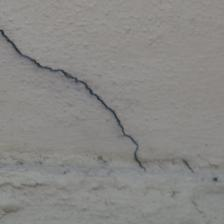Crack: (4, 31, 146, 171)
